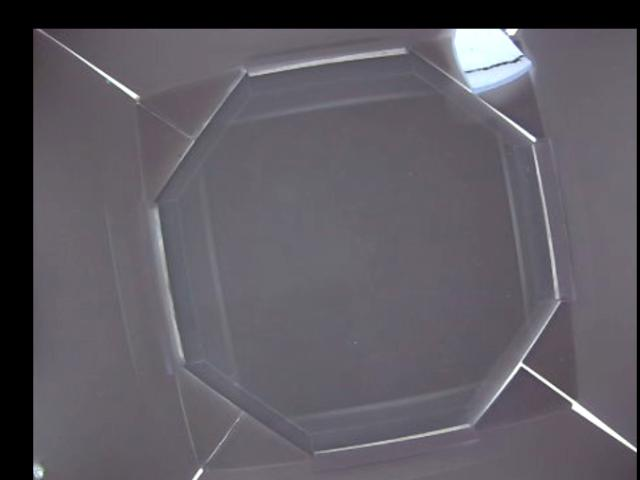China: (441, 29, 533, 95)
